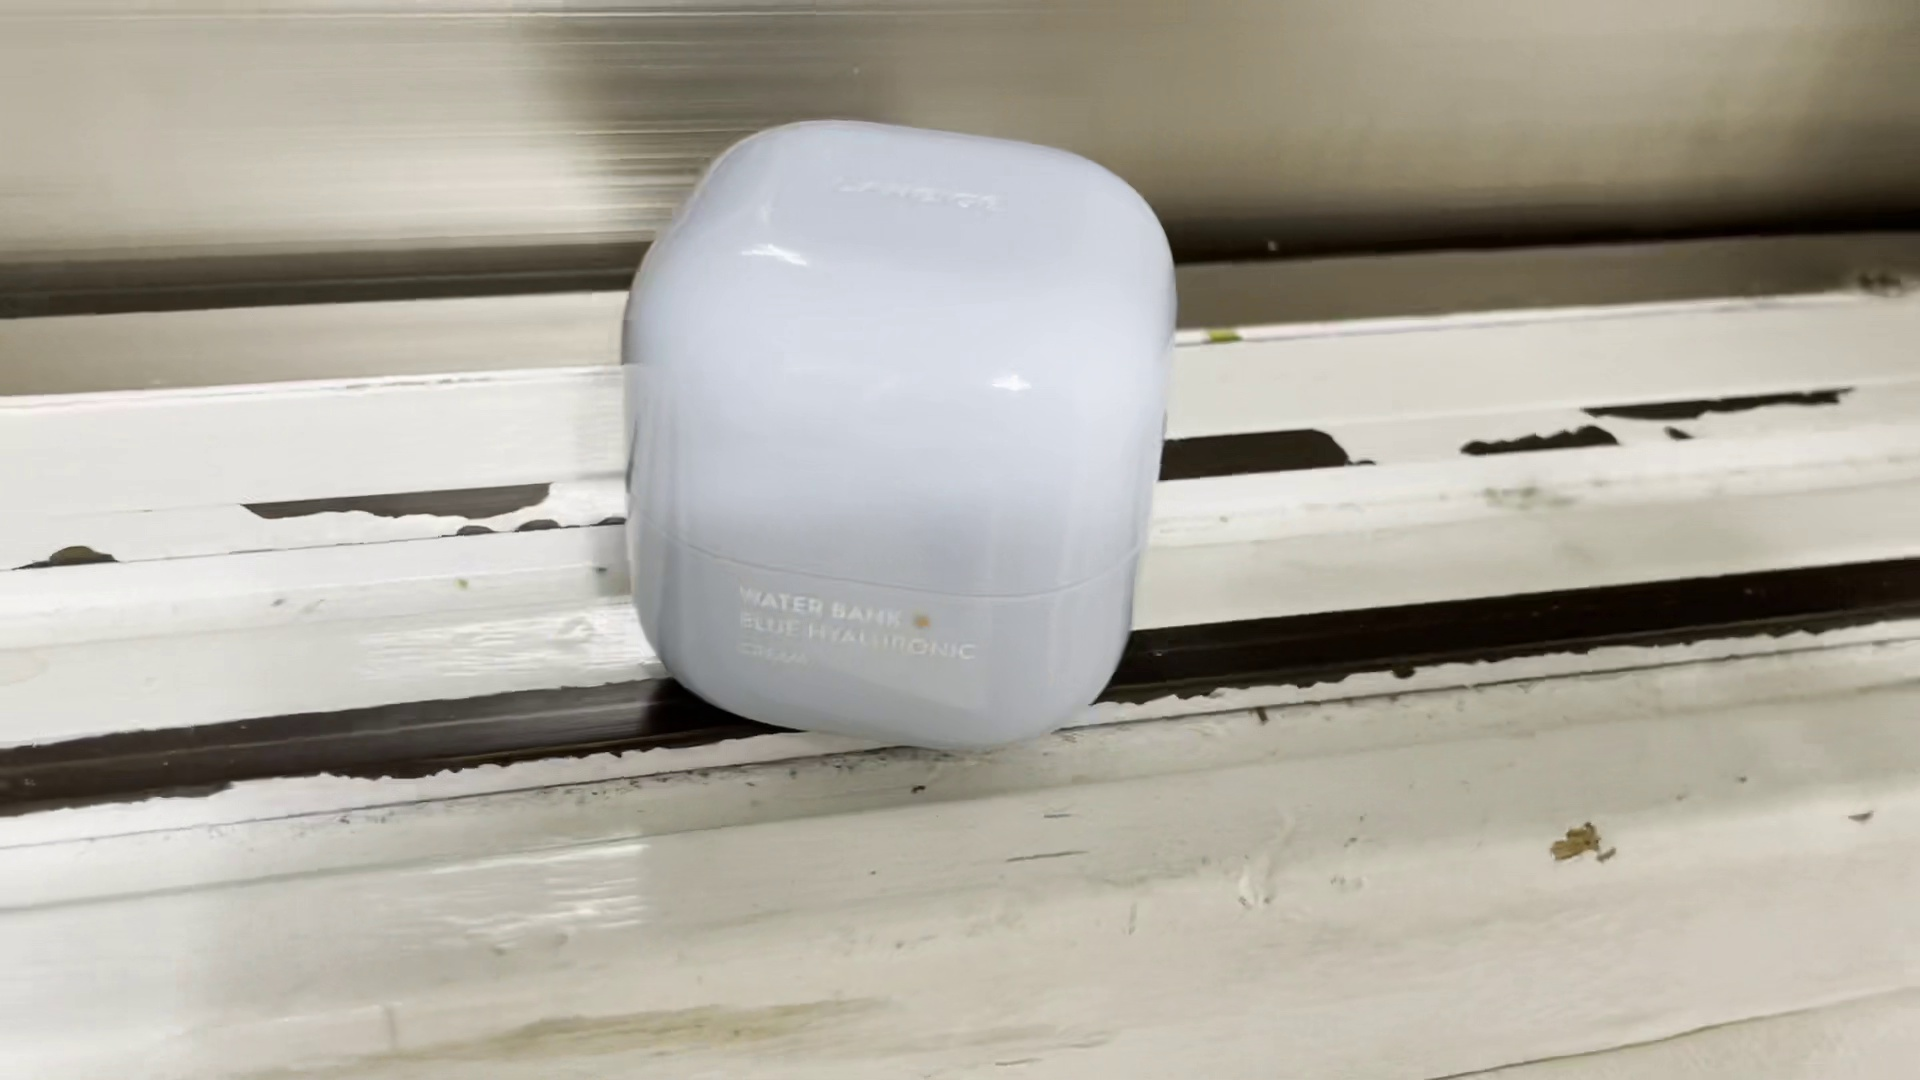cream: (615, 119, 1168, 756)
